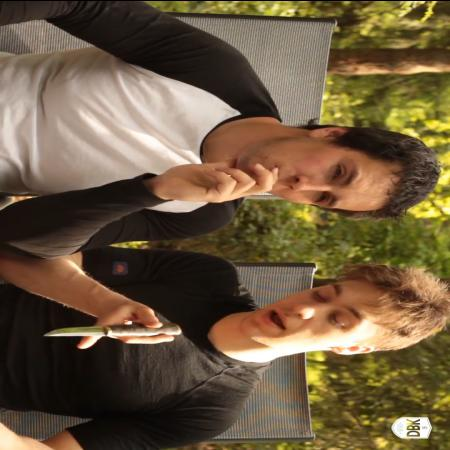long weapon: (30, 307, 190, 349)
